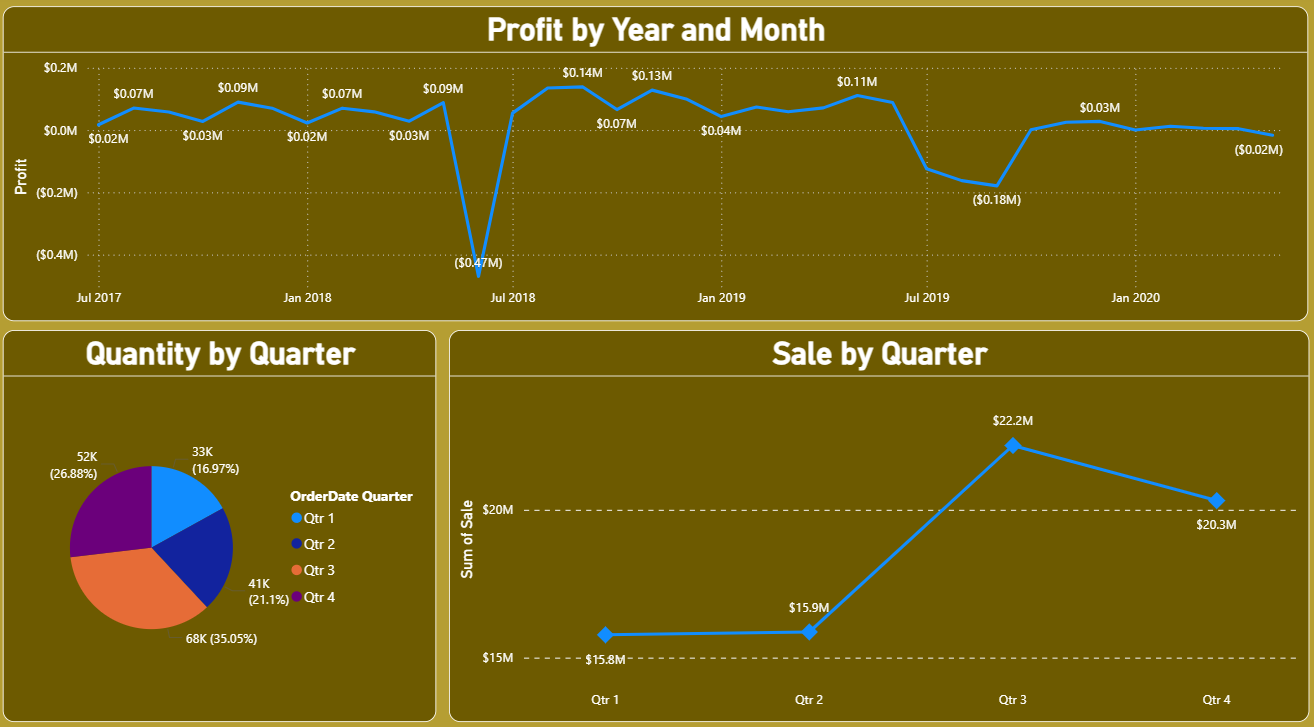

The page's visual inventory and layout, read from the dashboard file:
{"tool":"powerbi","page":{"name":"Page 2","canvas":[1280,720],"ordinal":1},"visuals":[{"type":"lineChart","title":"Profit by Year and Month","fields":{"Category":["Sales.Order Date.Variation.Date Hierarchy.Year","Sales.Order Date.Variation.Date Hierarchy.Month"],"Y":["Sales.profit"]},"box":[8.8,11.2,1260,303.8],"z":0},{"type":"pieChart","title":"Quantity by Quarter","fields":{"Category":["Sales.Order Date.Variation.Date Hierarchy.Quarter"],"Y":["Sum(Sales.Quantity)"]},"box":[8.8,323.8,418.8,378.8],"z":1000},{"type":"lineChart","title":"Sale by Quarter","fields":{"Y":["Sum(Sales.Sale)"],"Category":["Sales.Order Date.Variation.Date Hierarchy.Quarter"]},"box":[438.8,323.8,830,378.8],"z":2000}]}

Visuals, with their boxes in screenshot pixels (x1, y1, x2, y2), scaled from the page's 1280x720 canvas onto the 1314x727 screenshot:
"Profit by Year and Month" lineChart: 9,11,1303,318
"Quantity by Quarter" pieChart: 9,327,439,709
"Sale by Quarter" lineChart: 450,327,1303,709
